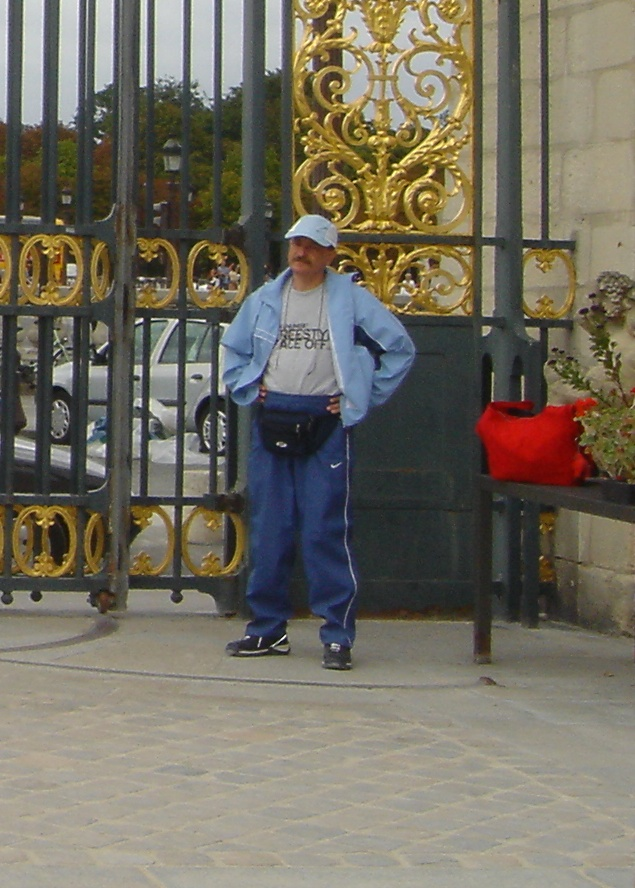person: (217, 218, 416, 664)
